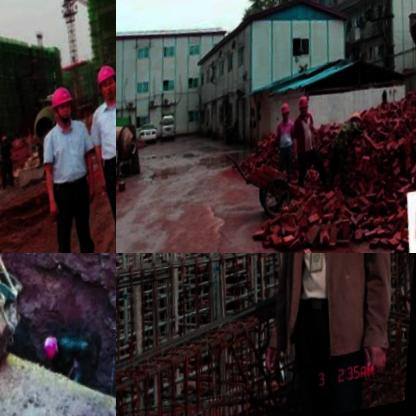helmet: (49, 84, 80, 131), (94, 63, 116, 108), (41, 335, 68, 370), (297, 96, 315, 126), (280, 105, 295, 127)
